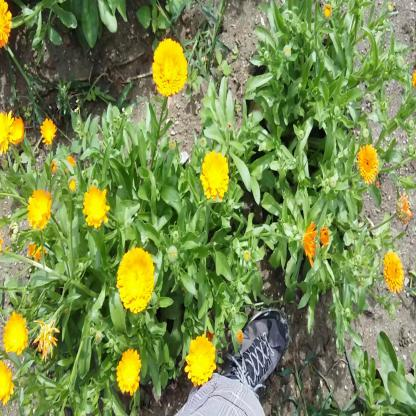marigold: (118, 250, 152, 312), (152, 42, 186, 98), (184, 335, 215, 386), (202, 151, 227, 196), (116, 348, 141, 393), (81, 185, 106, 226), (382, 252, 404, 293), (3, 315, 25, 356), (355, 144, 378, 182), (29, 191, 50, 226), (0, 113, 12, 153), (1, 359, 13, 398)
